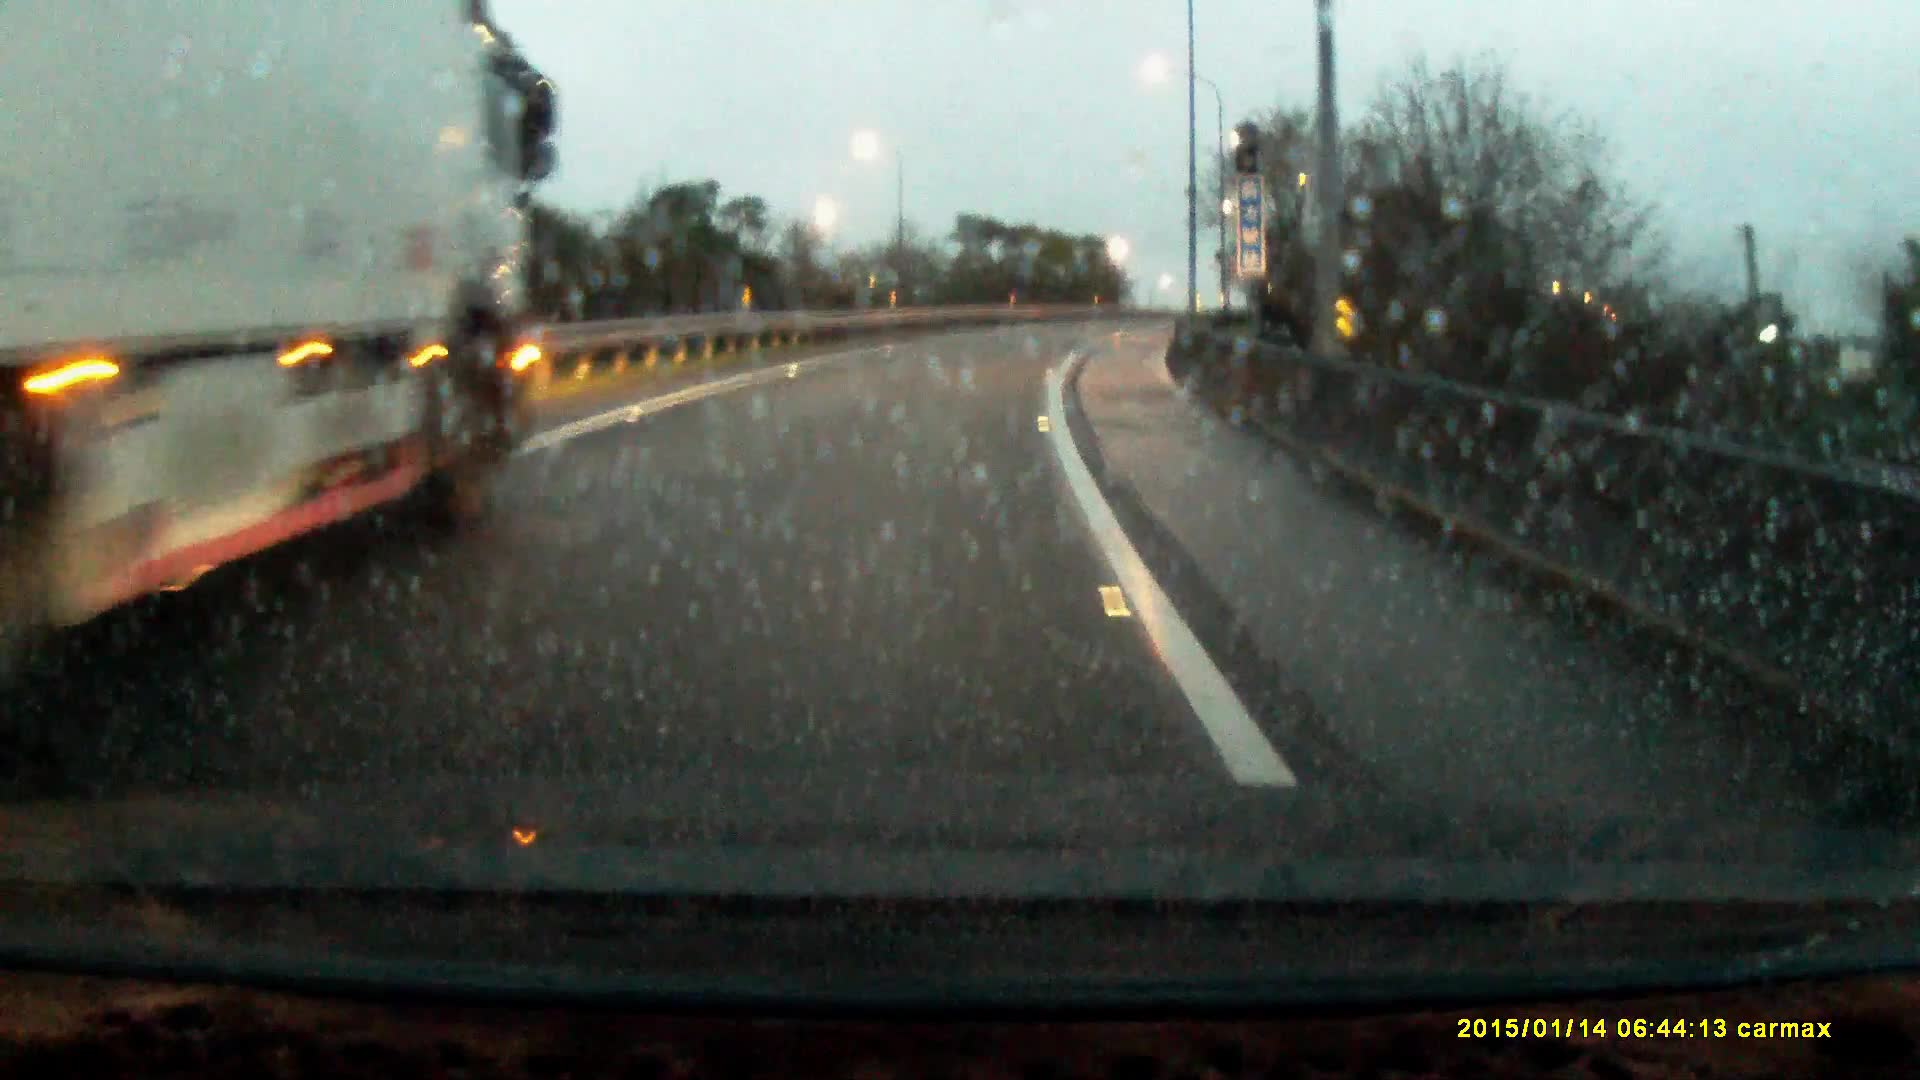vehicle: (1, 1, 562, 646)
